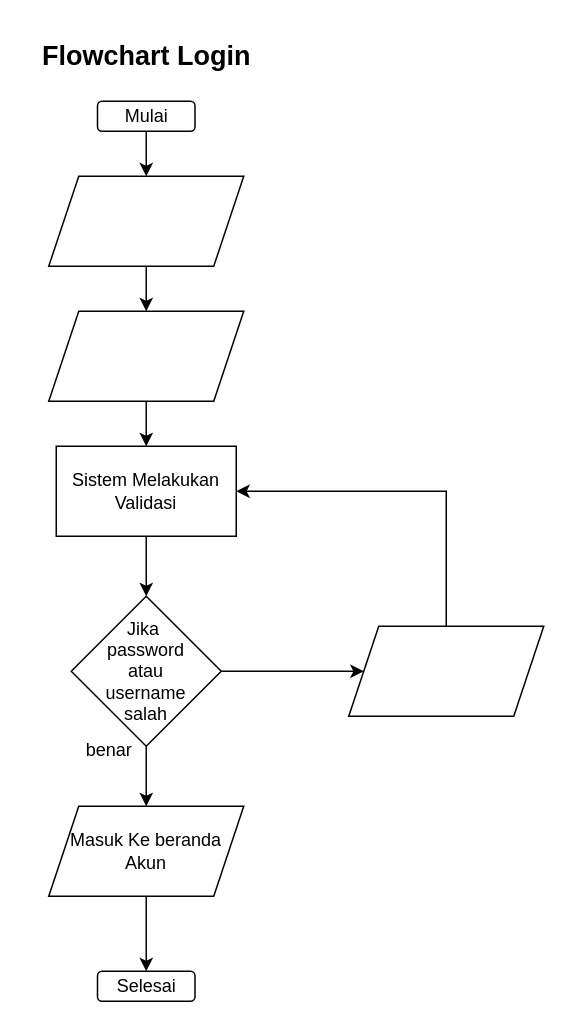
Image size: 570x1028. Some labels were removed from this diagram. The centre of each missing label's shape, as x and y in pixels:
"Input Ulang Username dan Passowrd" belongs at (445,670).
"input username dan passoword yang sudah terdaftar" belongs at (145,355).
"masuk ke form login" belongs at (145,220).
